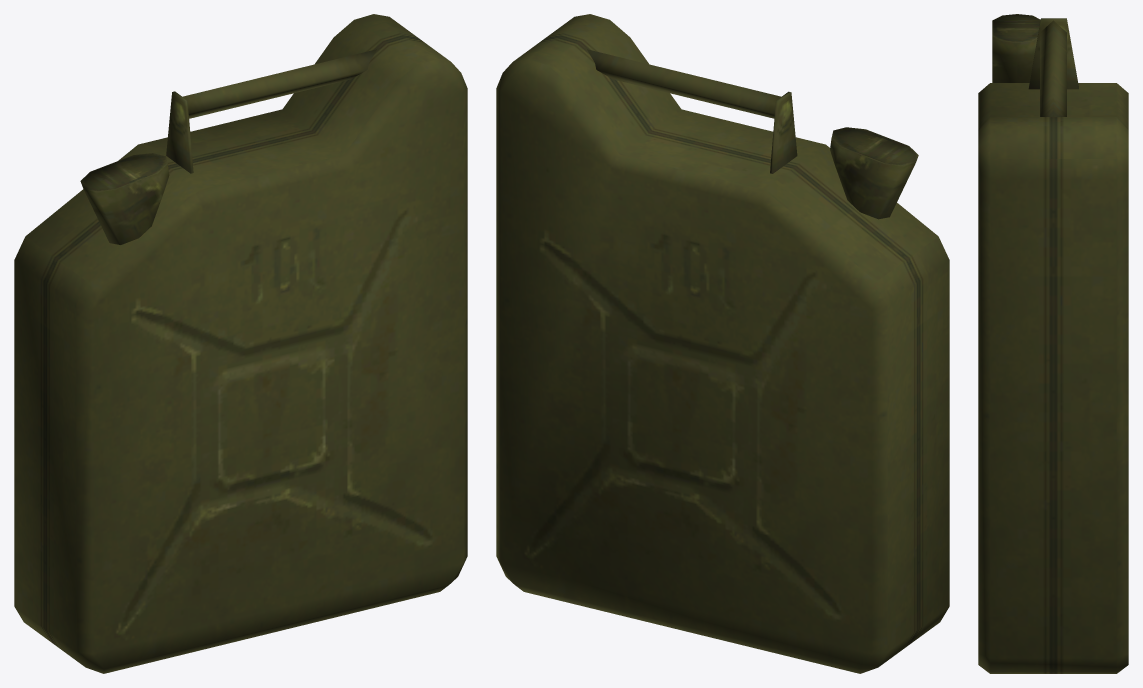
The model's file is canister.obj.
3 renders of one model, left to right at view 1: azimuth 30°, elevation 25°; view 2: azimuth 150°, elevation 25°; view 3: azimuth 270°, elevation 25°, orthographic. The views are drawn at different scales.
Size of the model in its own units: 0.7554 by 0.9844 by 0.2457.
1 material, 1 textured.
